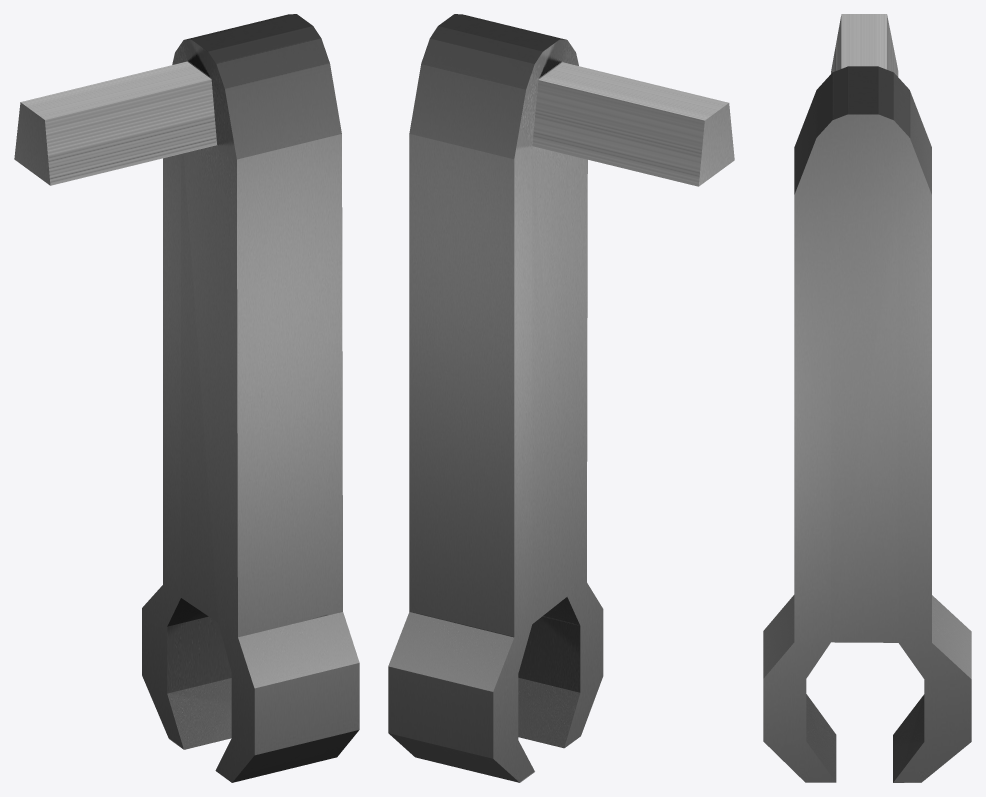
The model's file is robotarmright4.dae.
3 renders of one model, left to right at view 1: azimuth 30°, elevation 25°; view 2: azimuth 150°, elevation 25°; view 3: azimuth 270°, elevation 25°, orthographic. The views are drawn at different scales.
Visible parts, largest first — view 1: Cube; view 2: Cube; view 3: Cube.
Part boxes in pixels (x1,y1,x2,y2): Cube: (14,14,359,782); Cube: (388,14,734,782); Cube: (763,14,971,782).
Size of the model in its own units: 1.04 by 0.7326 by 2.59.
1 material, 1 textured.
